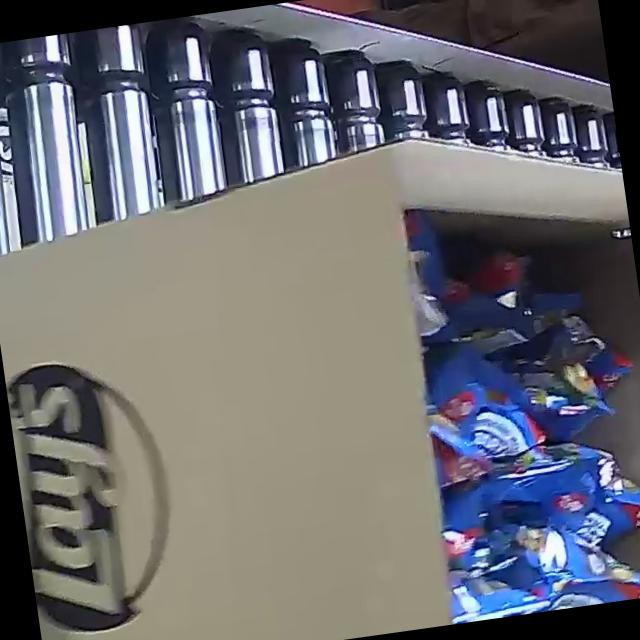paprika: (393, 221, 640, 625)
